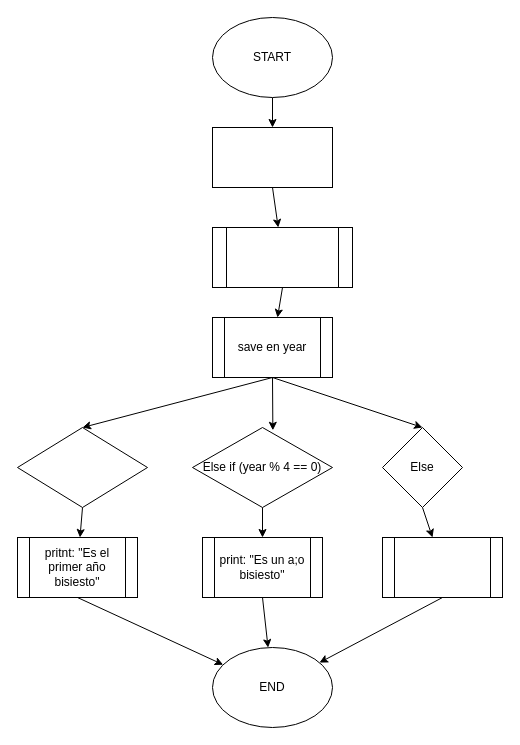
Image size: 520x745. Some labels were removed from this diagram. Each missing label, with the centre of its shape:
If (year == 76): [82,467]
int year: [272,157]
print "Ingrese año": [282,257]
print: "Es un año normal": [442,567]
